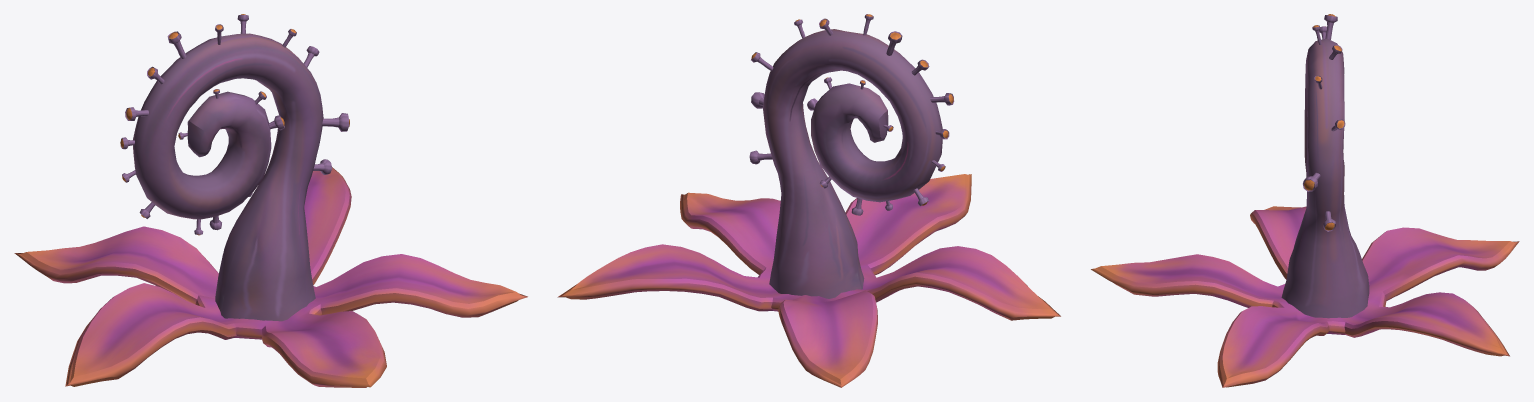
The model's file is horrorific_plant.glb.
3 renders of one model, left to right at view 1: azimuth 30°, elevation 25°; view 2: azimuth 150°, elevation 25°; view 3: azimuth 270°, elevation 25°, orthographic. The views are drawn at different scales.
Parts seen in each view (by area): view 1: Object_3; view 2: Object_3; view 3: Object_3.
Boxes of the visible parts, x1,y1,x2,y2 form: Object_3: (14, 14, 527, 387); Object_3: (557, 14, 1060, 387); Object_3: (1091, 14, 1519, 387).
Bounding box in the file's own units: 26.75 × 18.1 × 26.39.
Materials: 1 (1 with a texture image).
